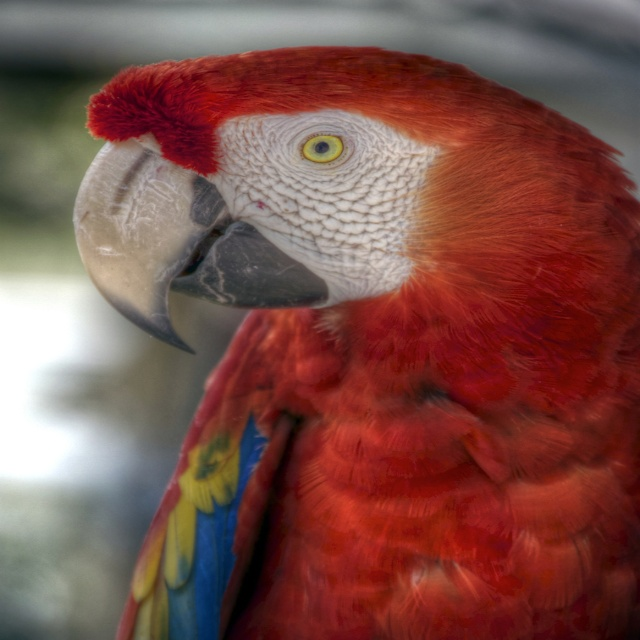Parrot: (81, 52, 638, 638)
